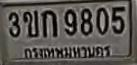0: (96, 7, 108, 34)
3: (8, 11, 20, 37)
5: (111, 6, 124, 33)
8: (80, 7, 92, 35)
9: (64, 8, 76, 35)
A01: (41, 9, 56, 37)
A02: (22, 10, 38, 37)
BKK: (21, 43, 114, 60)
